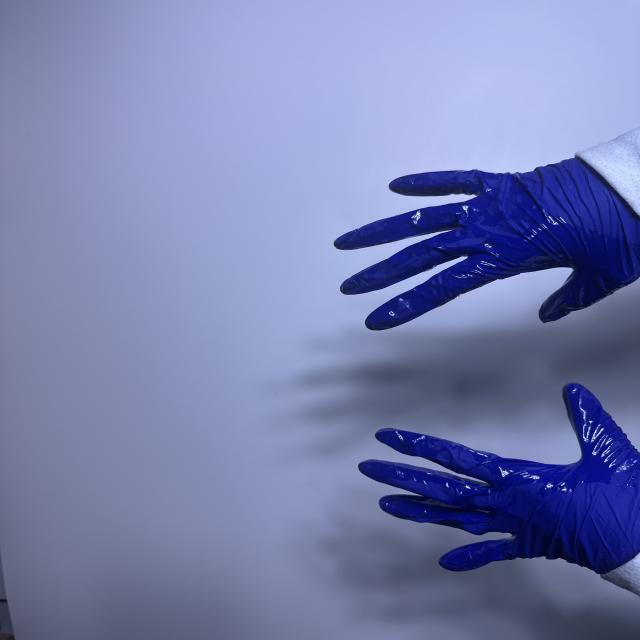gloves_contaminated: (359, 383, 640, 576), (334, 158, 640, 330)
